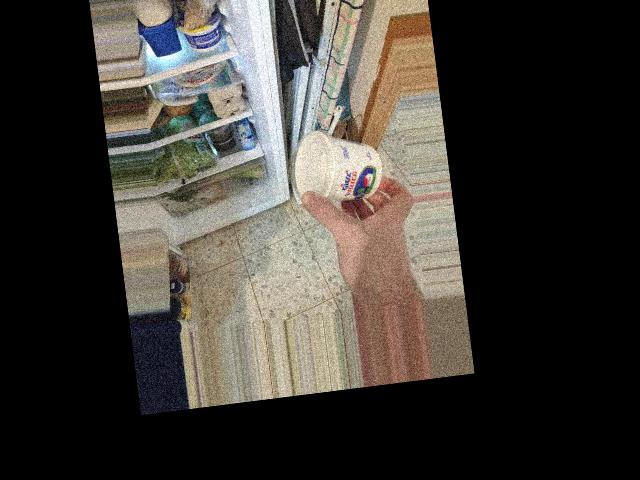cotage: (291, 128, 387, 214)
